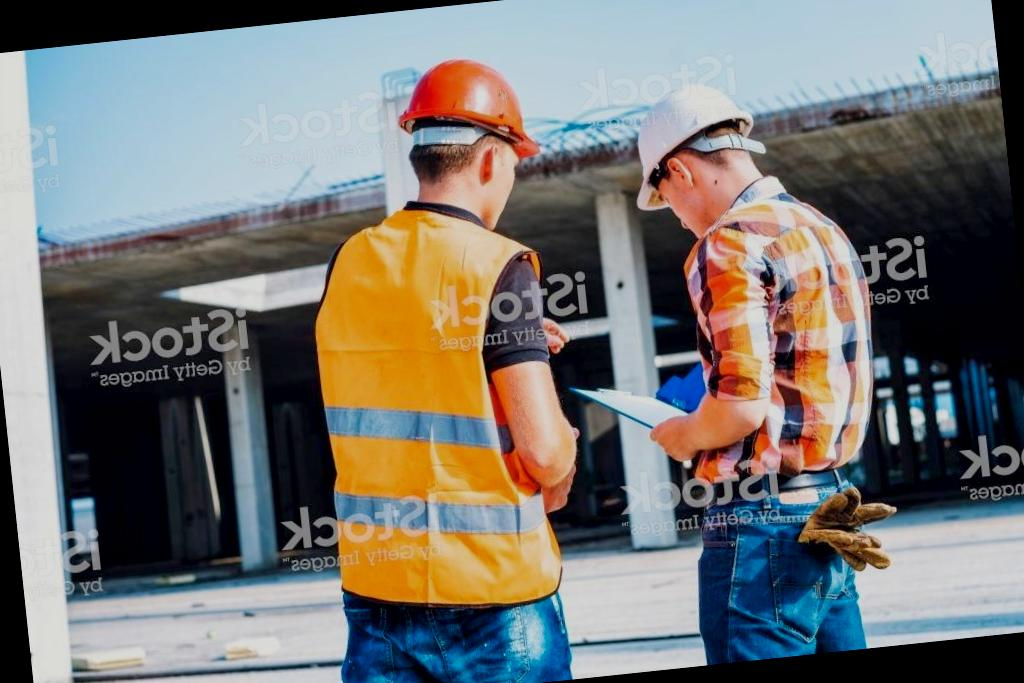helmet: (616, 74, 768, 217), (392, 52, 544, 180)
no_vest: (664, 184, 874, 516)
person: (261, 45, 609, 683), (616, 64, 909, 668)
